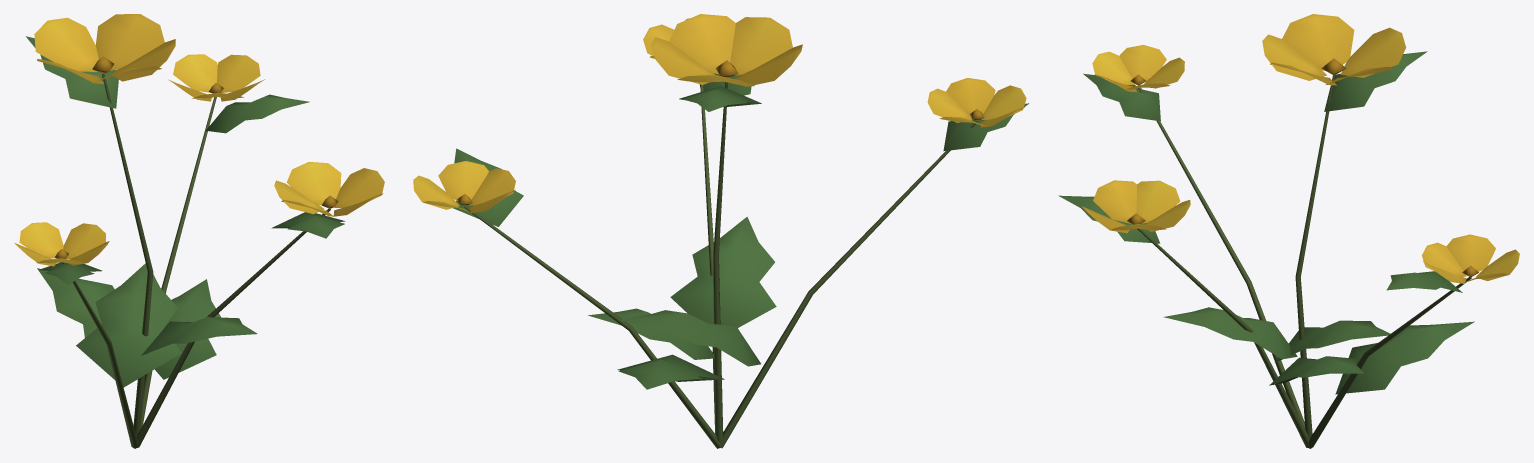
File: yellow_buttercup.glb
3 views of the same model, side by side, from view 1: azimuth 30°, elevation 25°; view 2: azimuth 150°, elevation 25°; view 3: azimuth 270°, elevation 25° (orthographic). The views are drawn at different scales.
Parts seen in each view (by area): view 1: yellow_buttercup; view 2: yellow_buttercup; view 3: yellow_buttercup.
Part boxes in pixels (x1,y1,x2,y2): yellow_buttercup: [14, 14, 384, 448]; yellow_buttercup: [413, 14, 1029, 448]; yellow_buttercup: [1058, 14, 1519, 448].
Size of the model in its own units: 0.3065 by 0.2831 by 0.3001.
